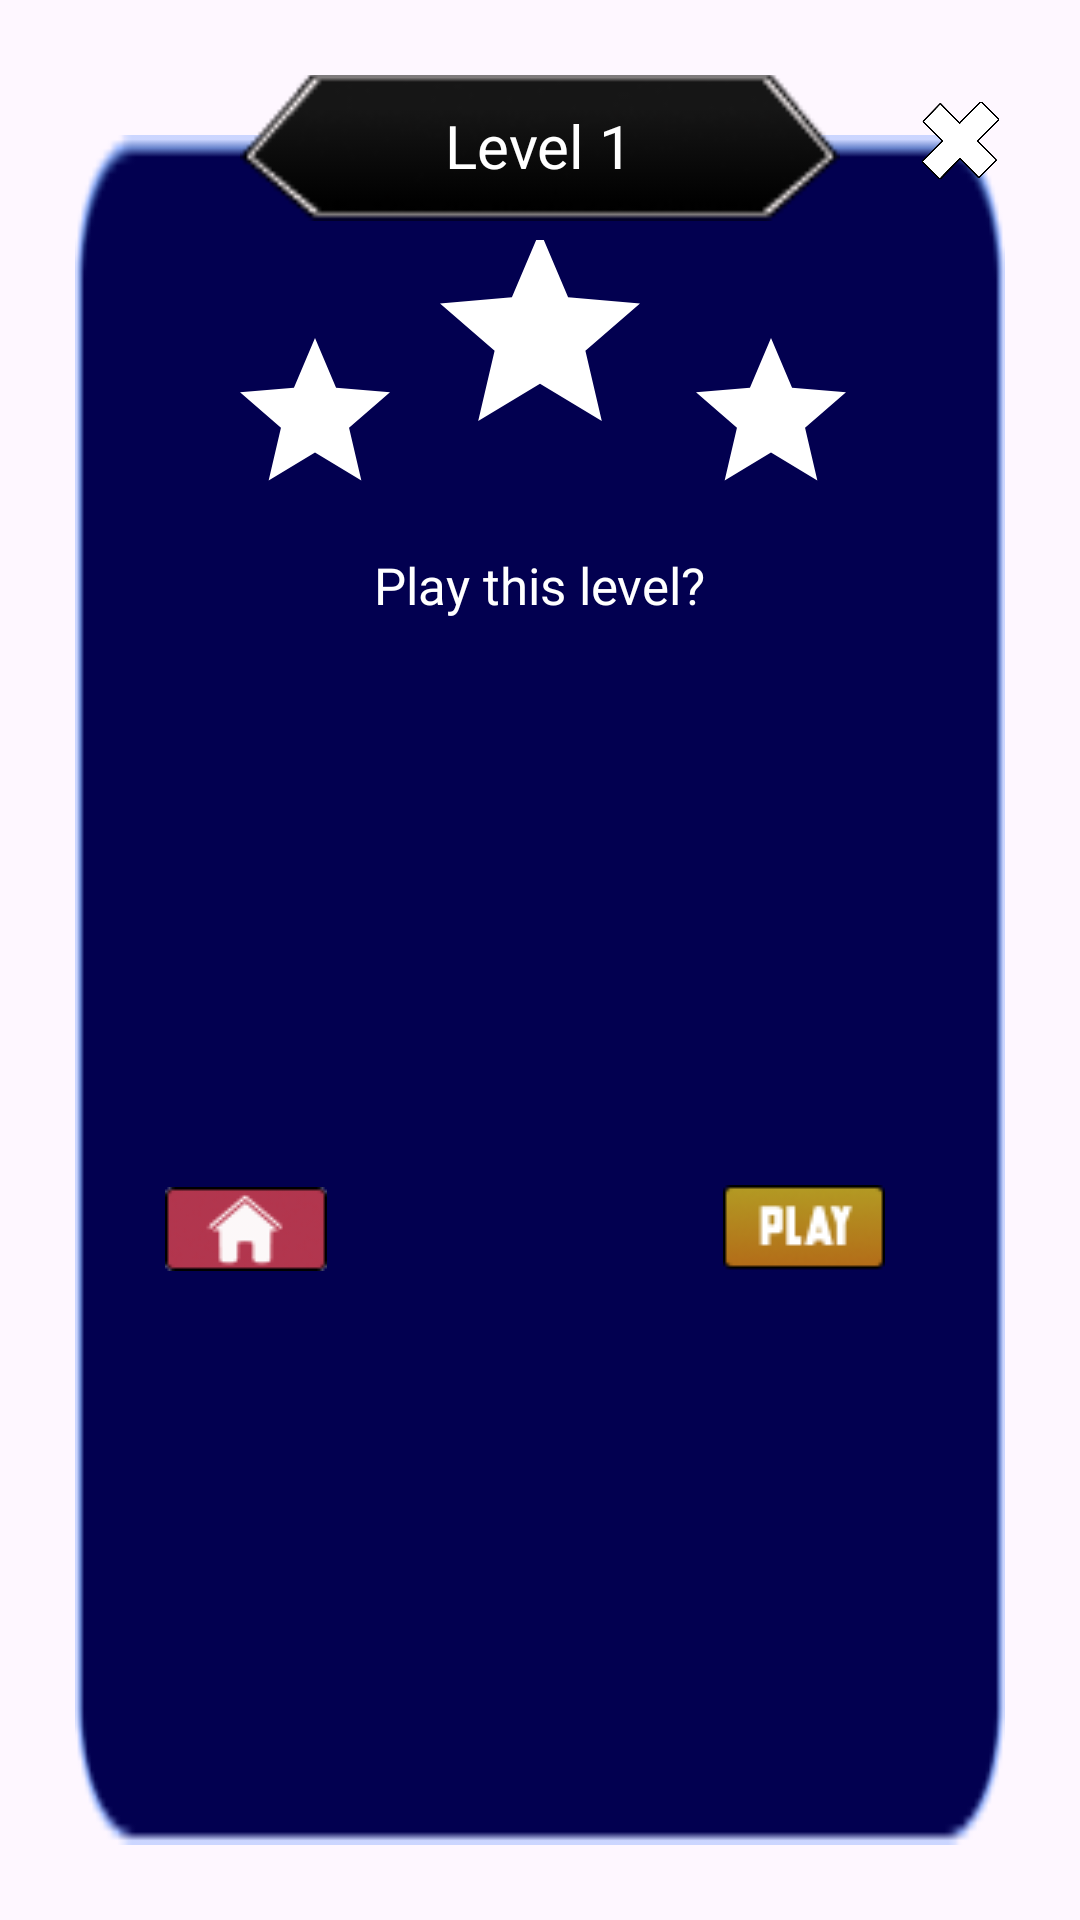

Where to tap for icons on this 1080×1920 app screen, as (x,y):
game info home: (246,1229)
silang: (960,141)
